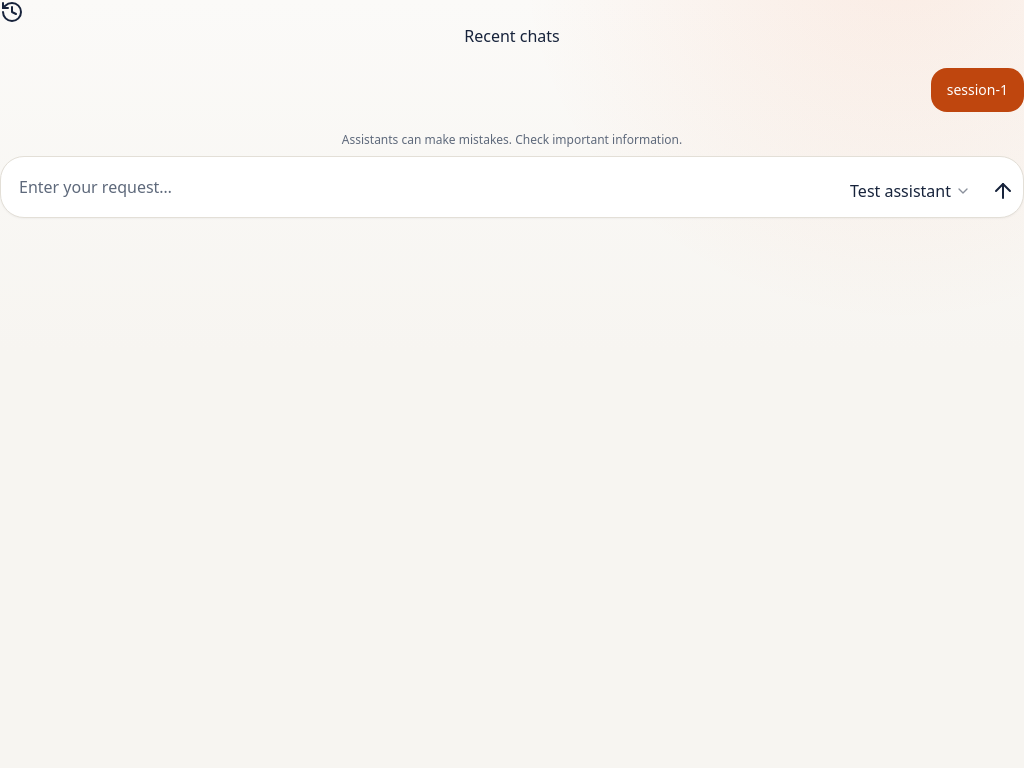
it: PlaygroundPage › switches and clears conversations through the rail while idle
Expected: the text "session-1" is shown, [947,80,1008,100]
Step 1. Click the button with aria-label "Open recent chats" → click(512, 24), box [0,0,1023,48]
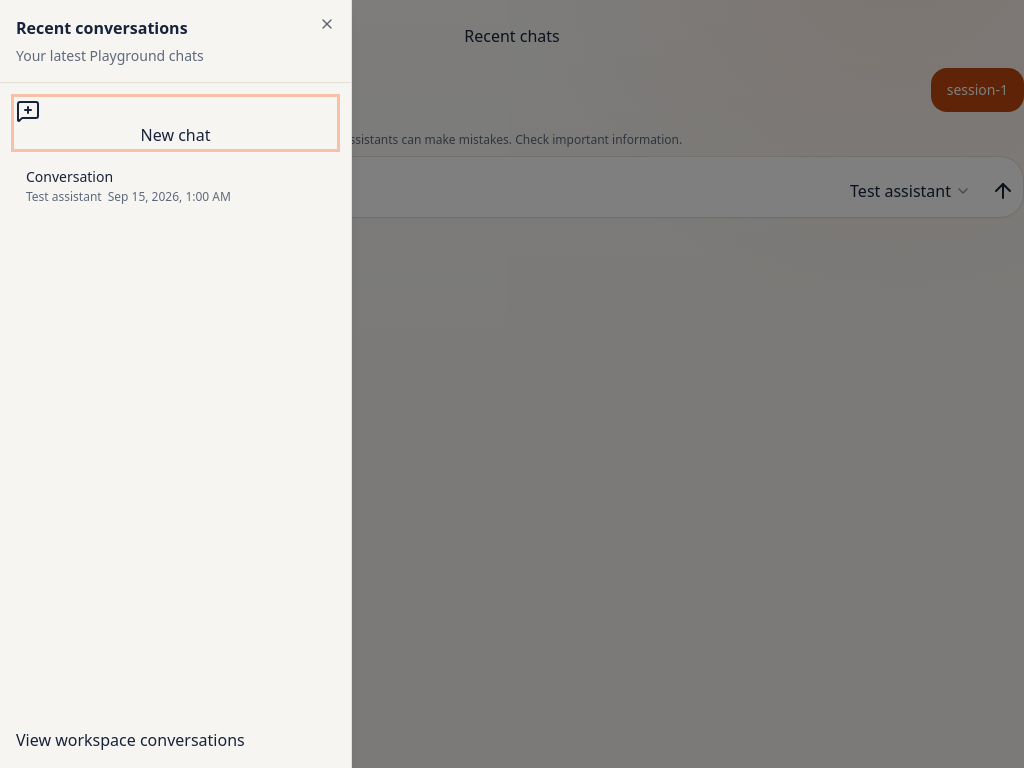
Step 2. Click the button with aria-label "Conversation, Test assistant" → click(128, 186), box [16,159,241,213]
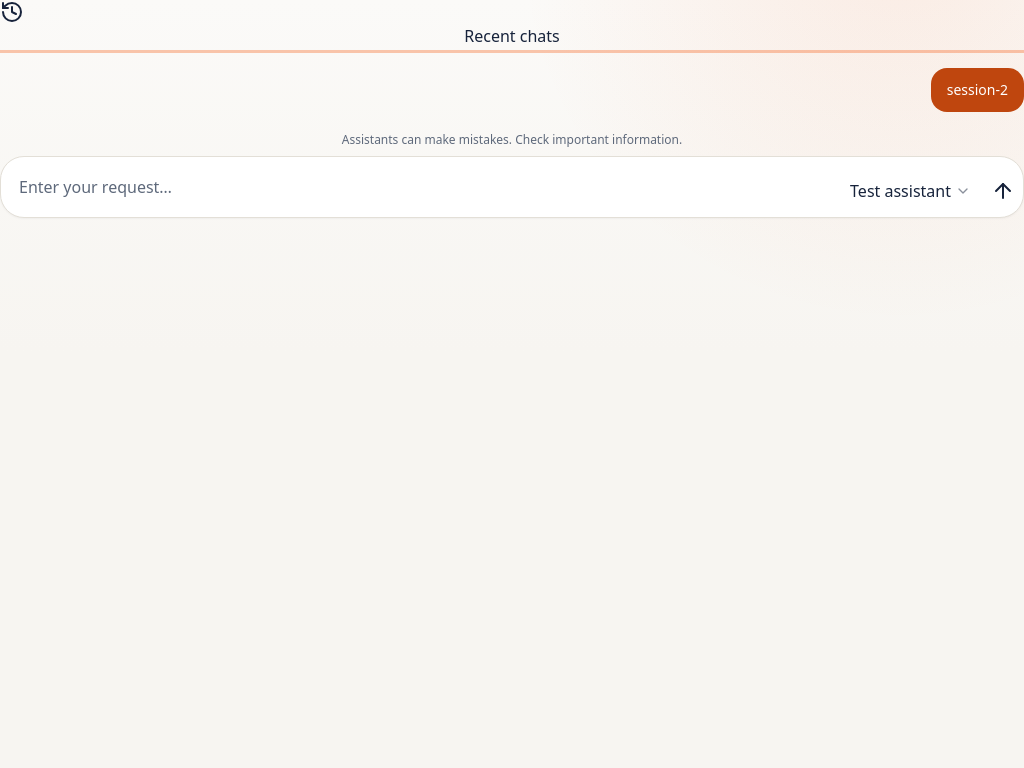
Expected: the text "session-2" is shown, [947,80,1008,100]
Expected: the text "session-1" is gone
Step 3. Type "Discard this draft" into the text box named "Message" → (420, 187), box [9,165,830,209]
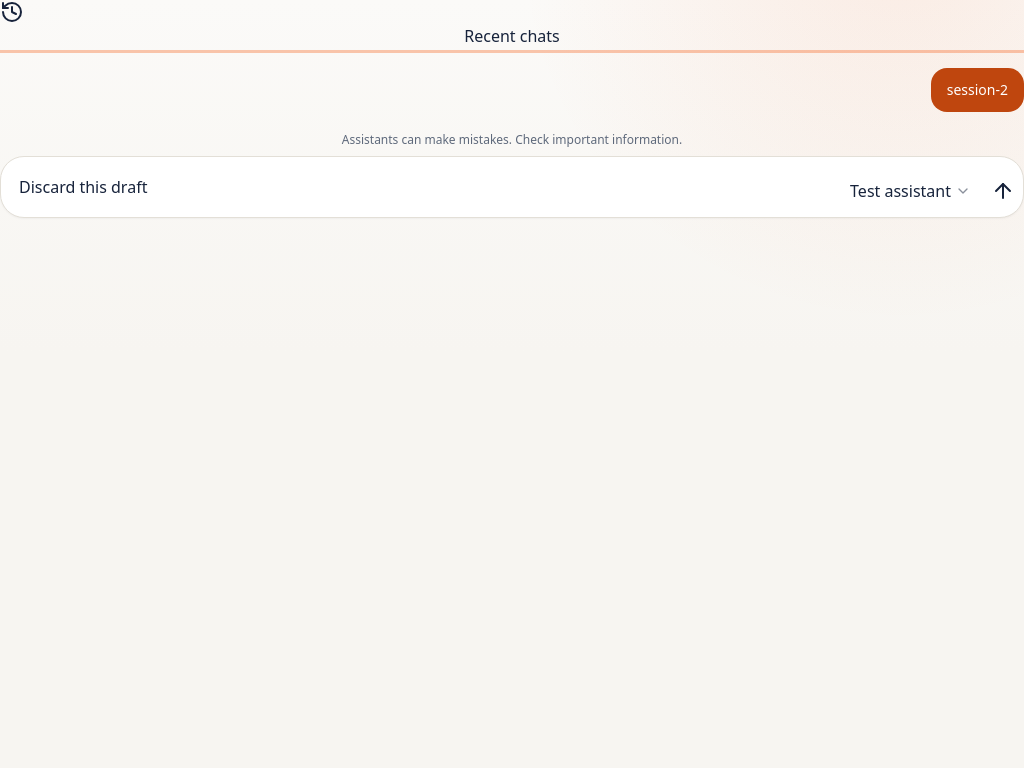
Step 4. Click the button with aria-label "Open recent chats" → click(512, 24), box [0,0,1023,48]
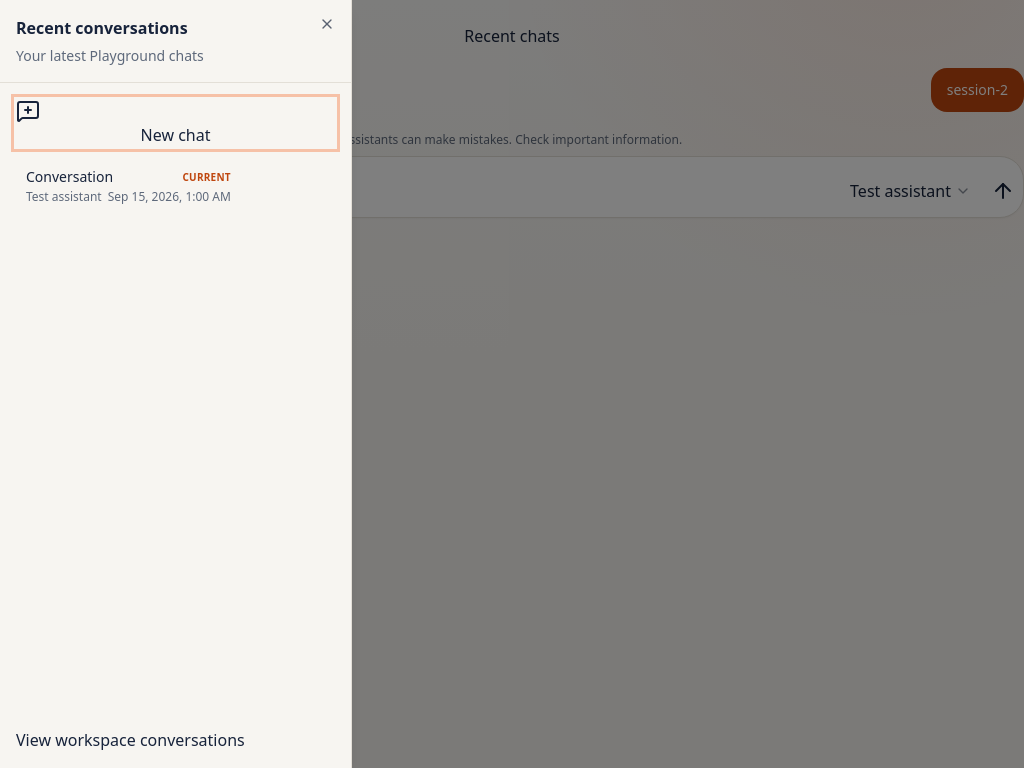
Step 5. Click the button "New chat" → click(176, 123), box [16,99,335,147]
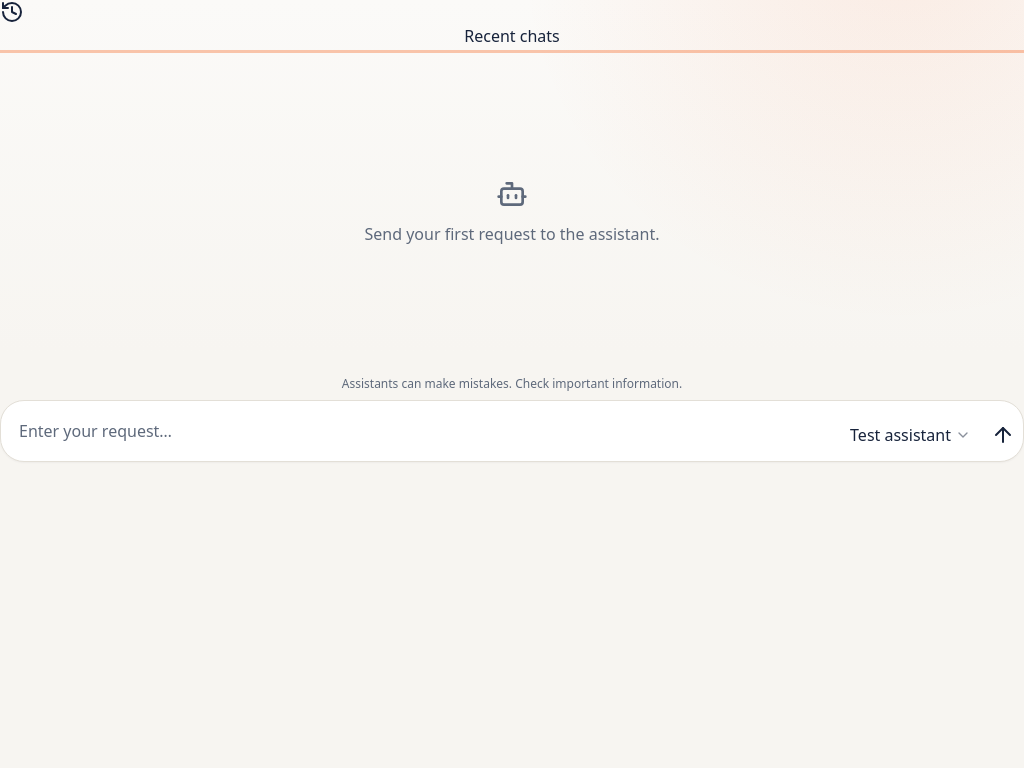
Expected: the text "session-2" is gone
Expected: the text box named "Message" is empty, [9,409,830,453]
